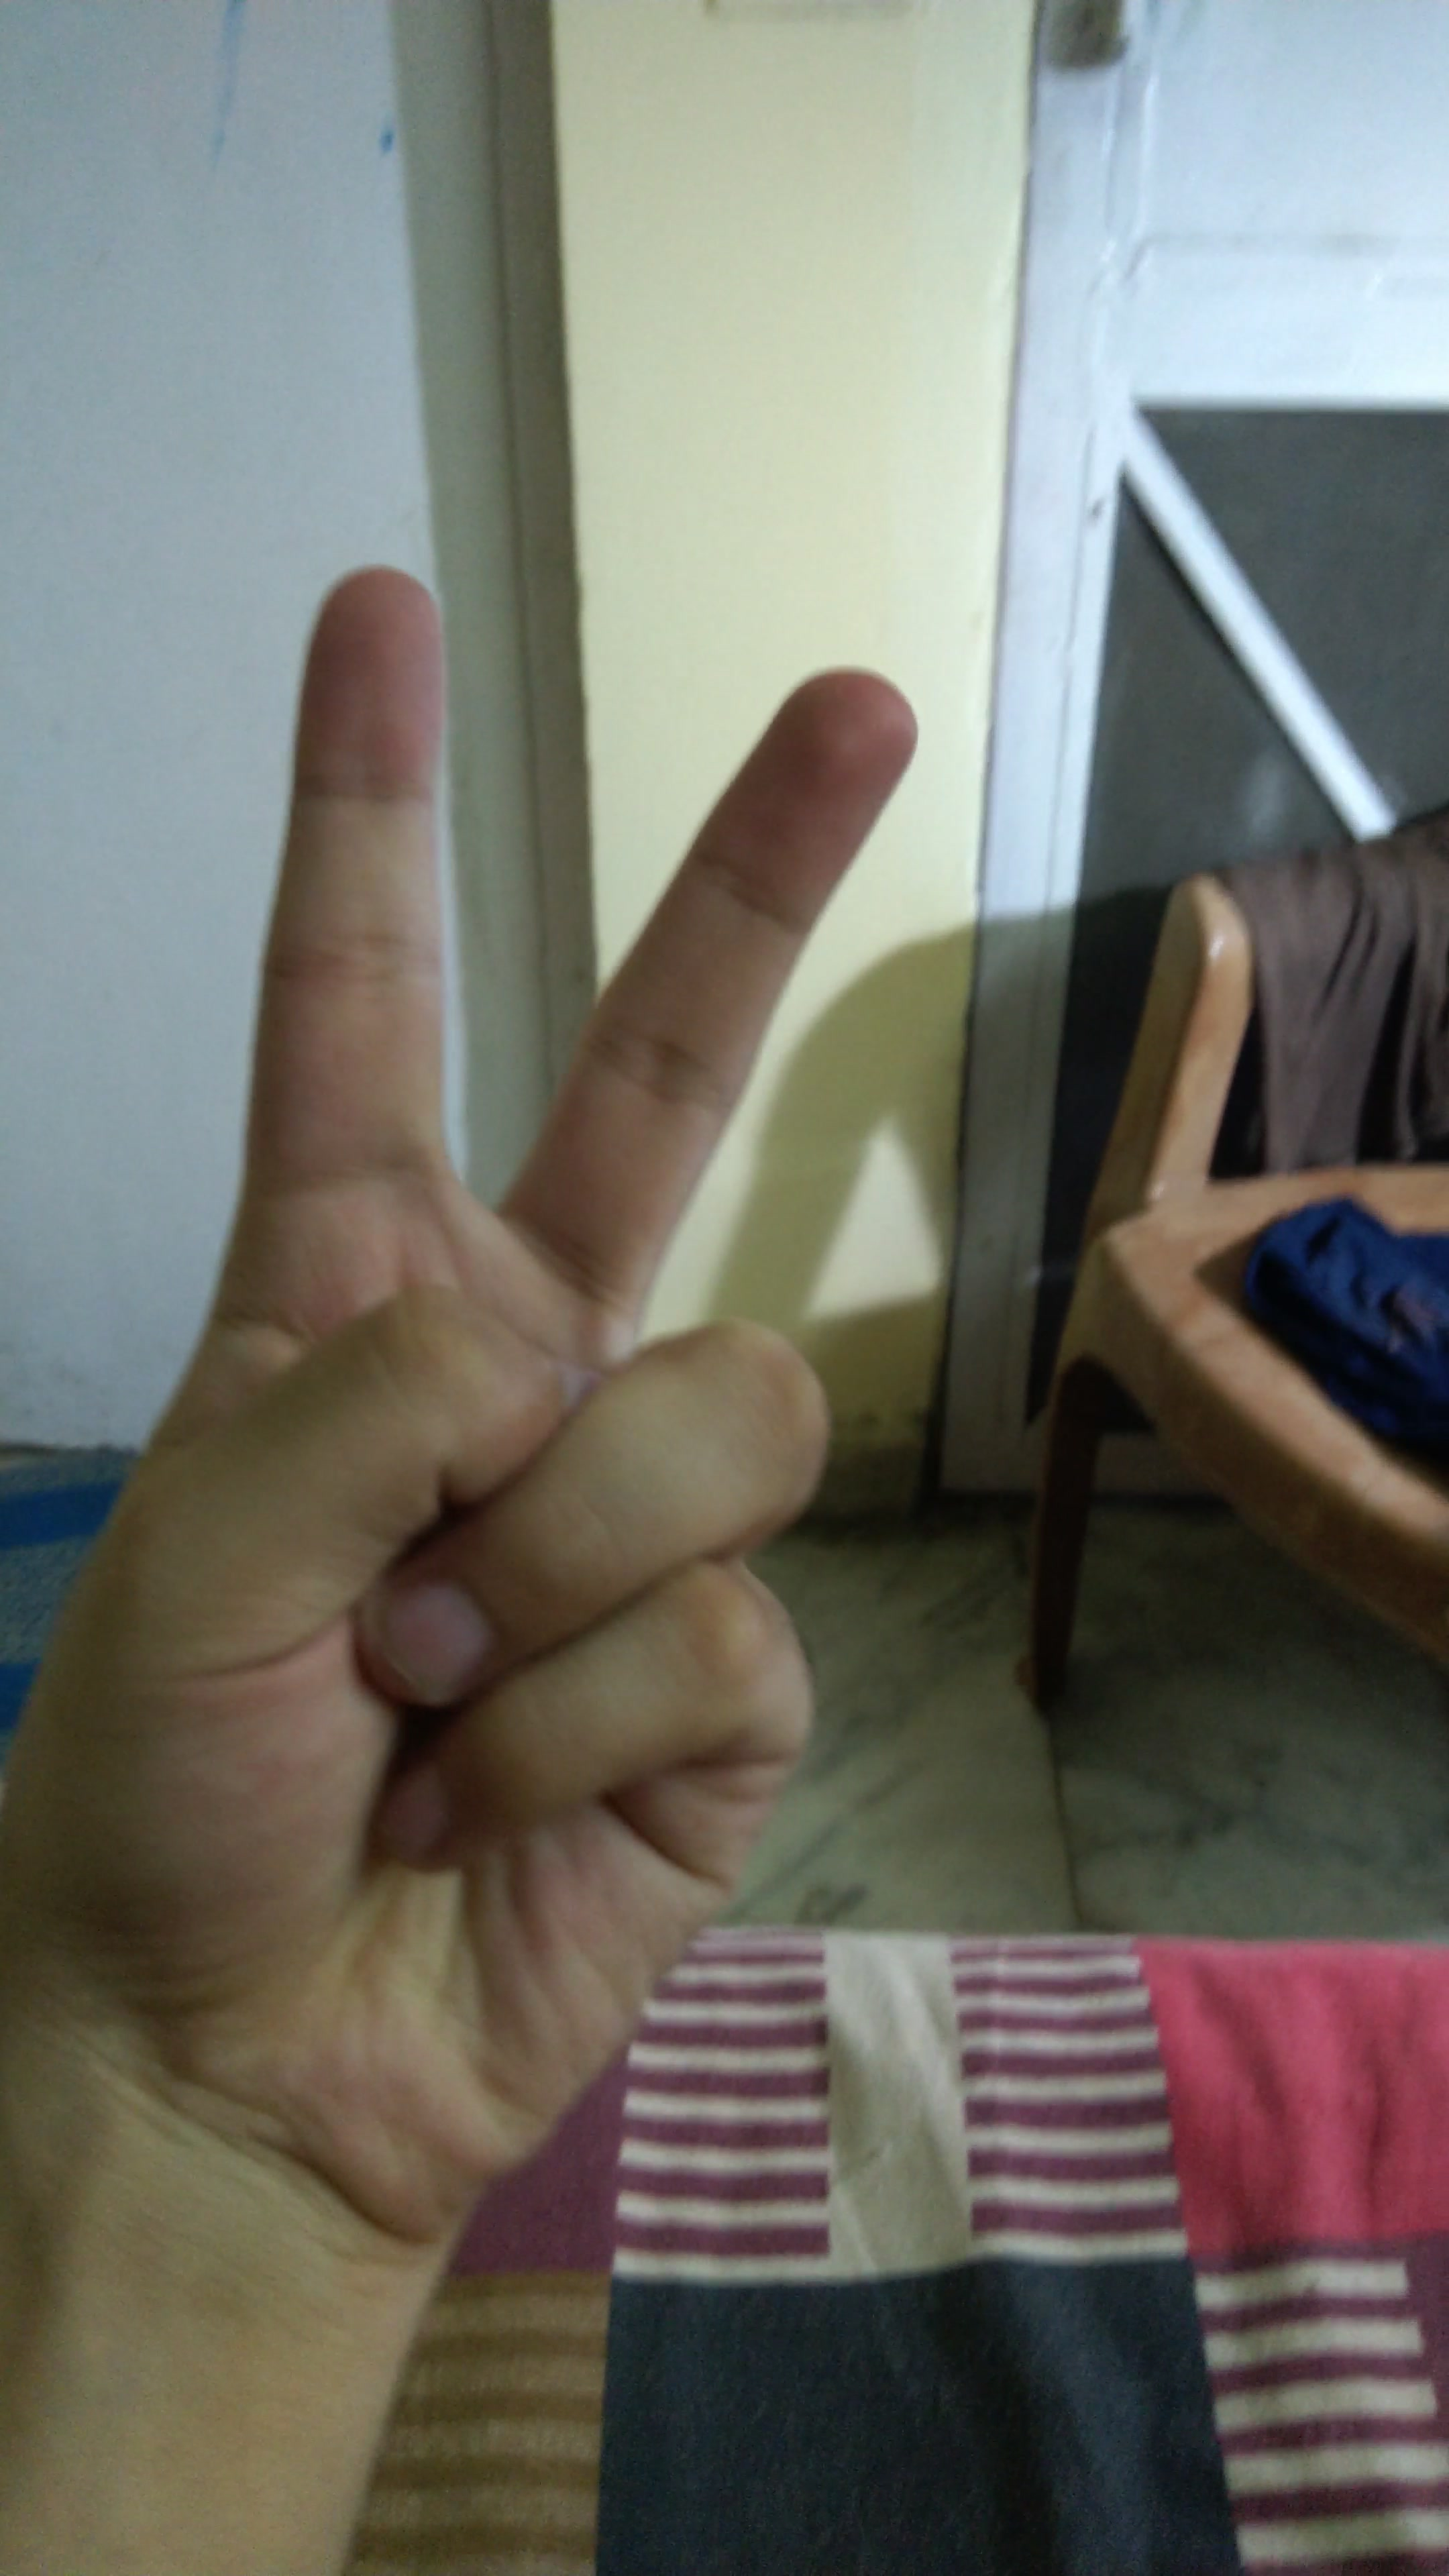hand: (32, 499, 955, 2296)
